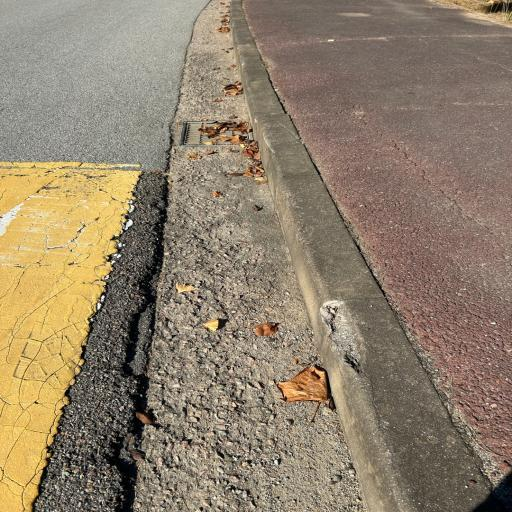debris: (199, 120, 255, 146)
drain: (180, 121, 256, 146)
